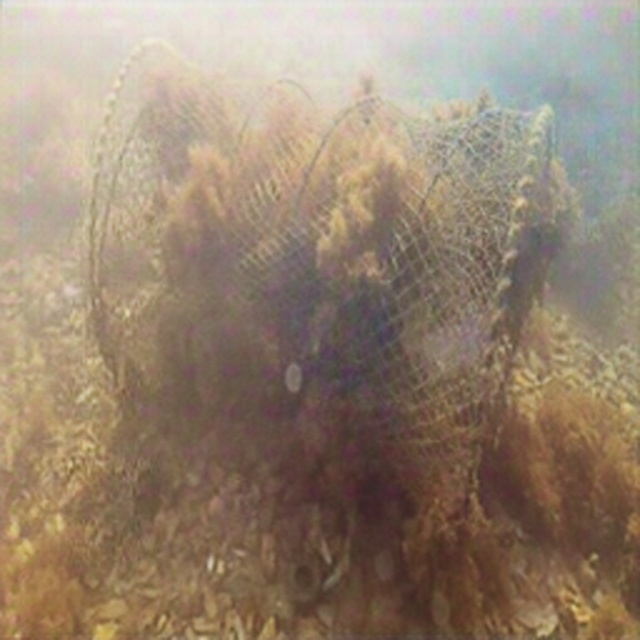mine: (87, 37, 556, 546)
